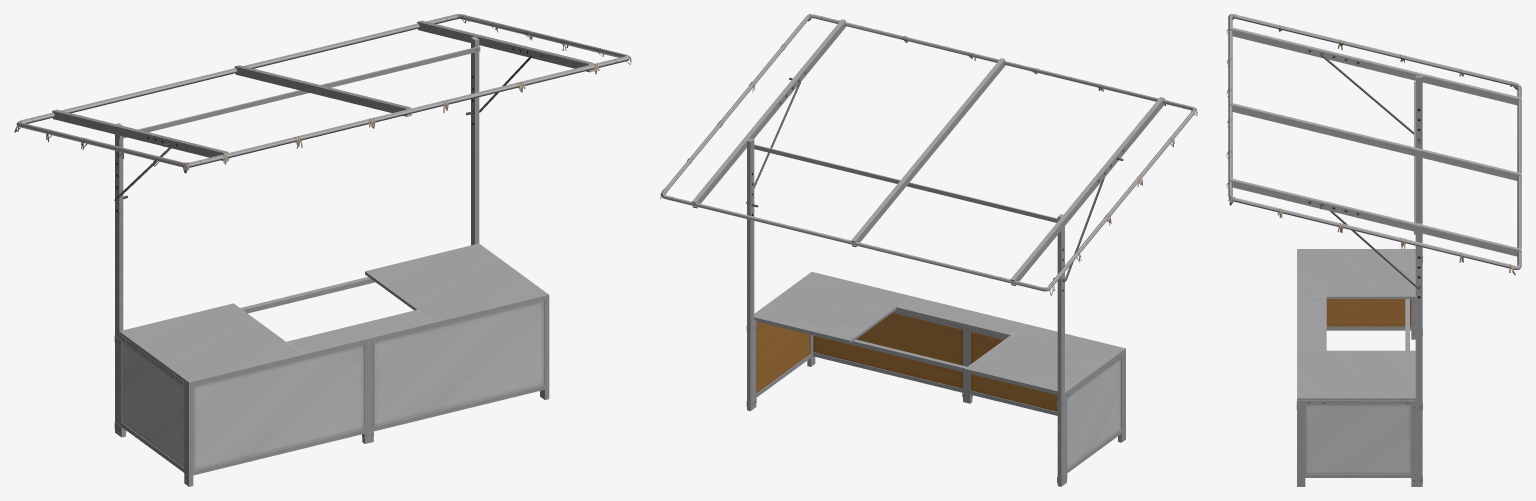
File: jsf_2P_s03_c04_t02.fbx
3 renders of one model, left to right at view 1: azimuth 30°, elevation 25°; view 2: azimuth 150°, elevation 25°; view 3: azimuth 270°, elevation 25°, orthographic. The views are drawn at different scales.
Parts seen in each view (by area): view 1: Base_s03_c04, Table_2P_s03_t02, Pillar2_s03, Rope_2P_s03; view 2: Base_s03_c04, Pillar2_s03, Table_2P_s03_t02; view 3: Pillar2_s03, Table_2P_s03_t02, Base_s03_c04, Rope_2P_s03.
Part boxes in pixels (x1,y1,x2,y2): Base_s03_c04: [114, 294, 549, 486]; Table_2P_s03_t02: [119, 243, 547, 385]; Pillar2_s03: [16, 14, 629, 435]; Rope_2P_s03: [14, 14, 631, 173]; Base_s03_c04: [746, 271, 1125, 483]; Pillar2_s03: [660, 14, 1196, 486]; Table_2P_s03_t02: [754, 272, 1125, 397]; Pillar2_s03: [1228, 14, 1521, 486]; Table_2P_s03_t02: [1298, 249, 1415, 404]; Base_s03_c04: [1296, 249, 1422, 486]; Rope_2P_s03: [1226, 14, 1517, 275].
Size of the model in its own units: 316 by 244 by 211.
